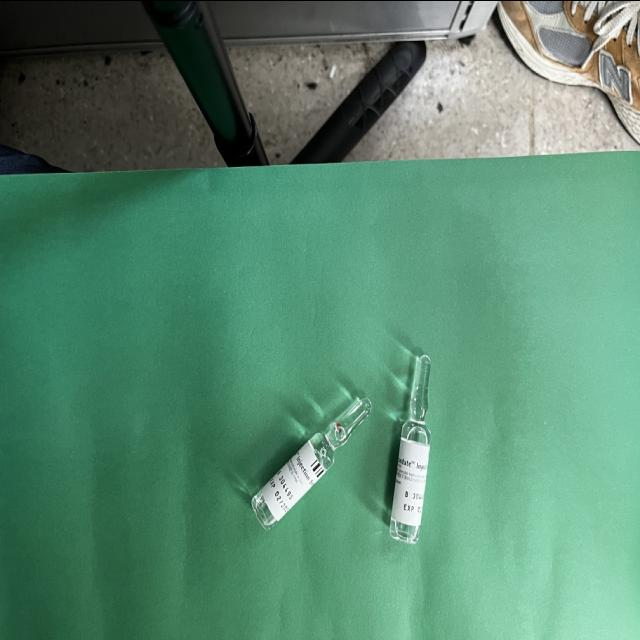Ampoules: (251, 397, 372, 527), (390, 353, 430, 543)
